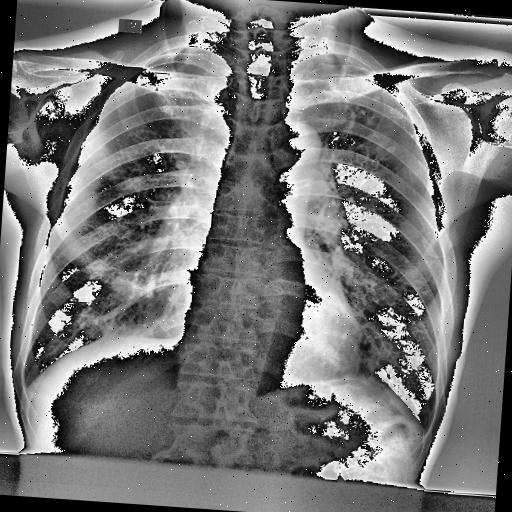13- Pulmonary fibrosis: (332, 88, 404, 156), (330, 79, 392, 142), (334, 108, 356, 153), (364, 102, 388, 128)
6- Infiltration: (334, 265, 402, 377)
7- Lung Opacity: (306, 249, 421, 375)
8- Nodule-Mass: (387, 145, 396, 153), (386, 145, 394, 153)
